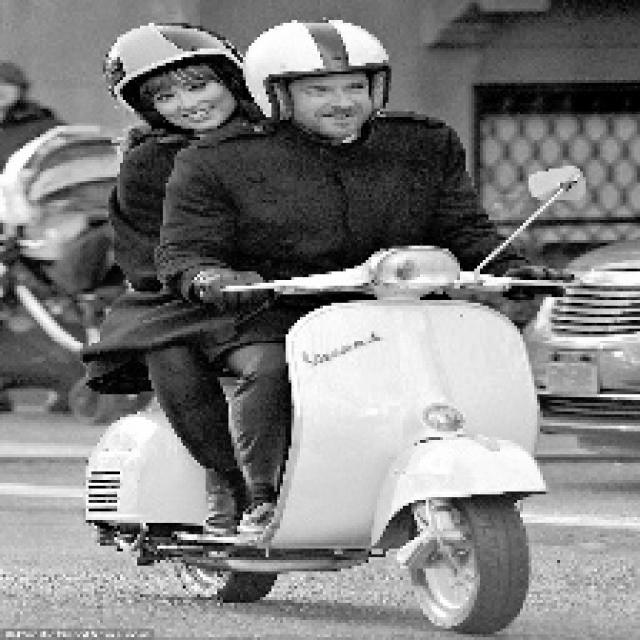Bike: (47, 254, 573, 640)
